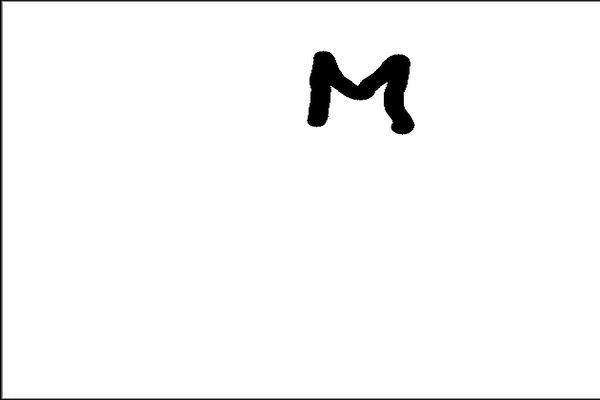M: (300, 45, 414, 134)
